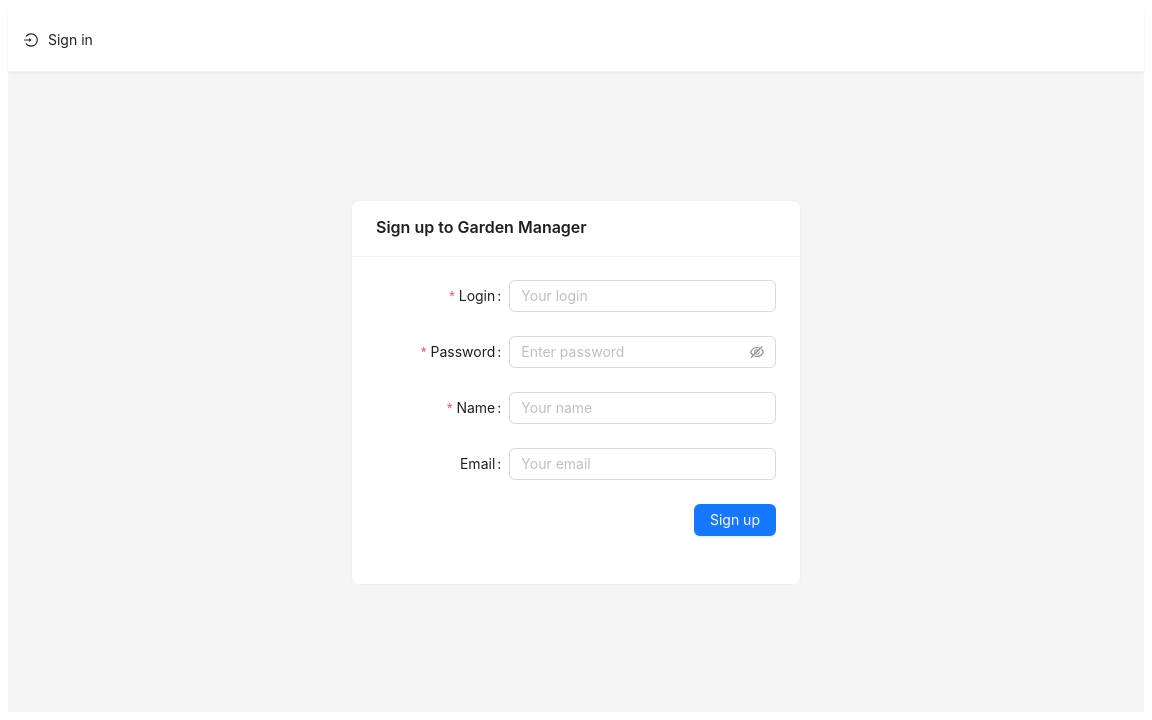
it: SignUpPage › should show notification on sign up error
Type "tester" into the field with placeholder "Your login" at (643, 296), box [509,280,776,312]
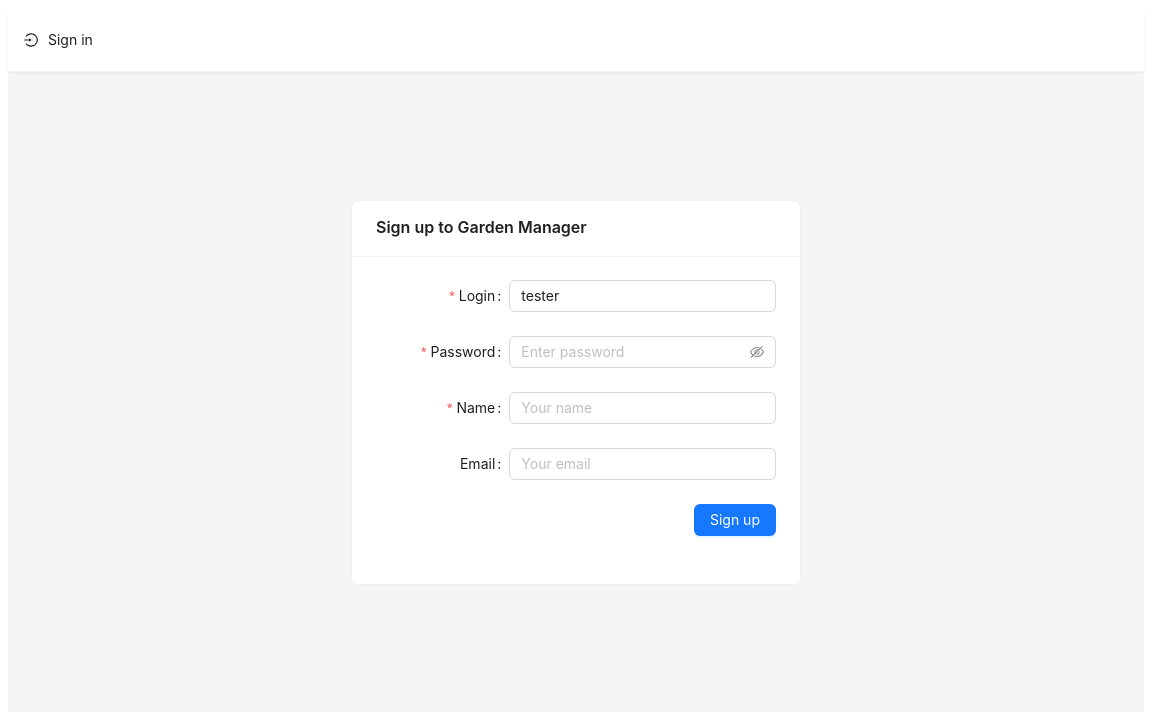
Type "abc12345" into the password field with placeholder "Enter password" at (634, 352), box [521,340,746,362]
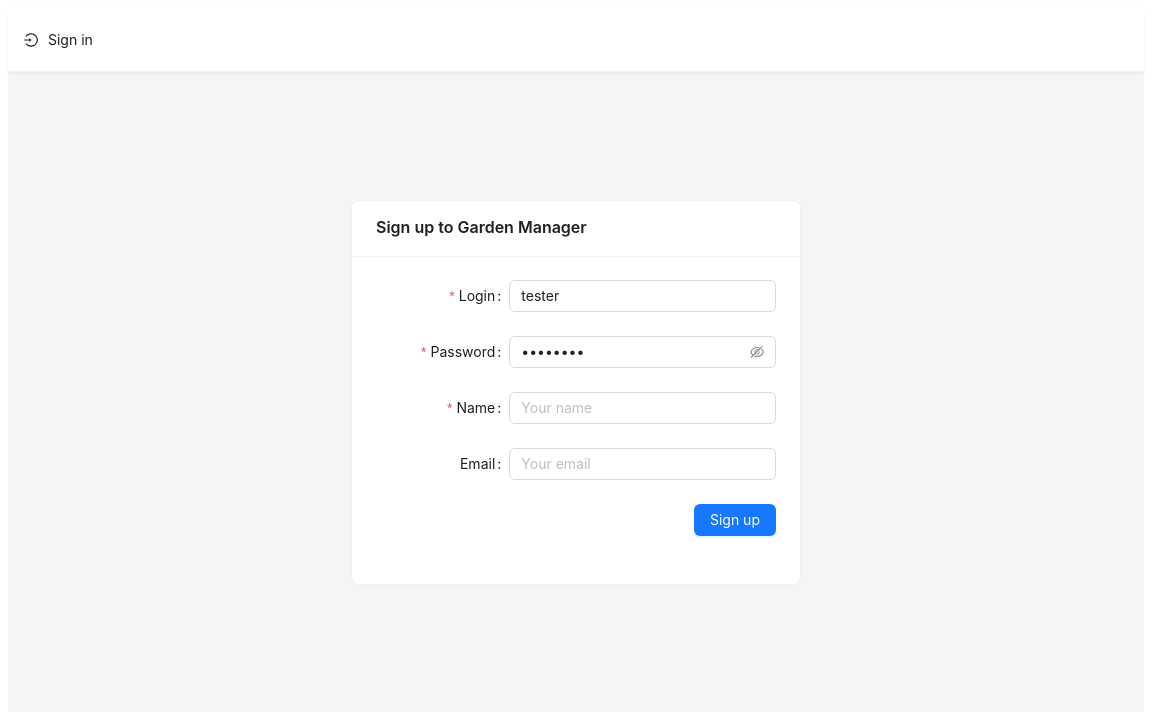
Type "Tester" into the field with placeholder "Your name" at (643, 408), box [509,392,776,424]
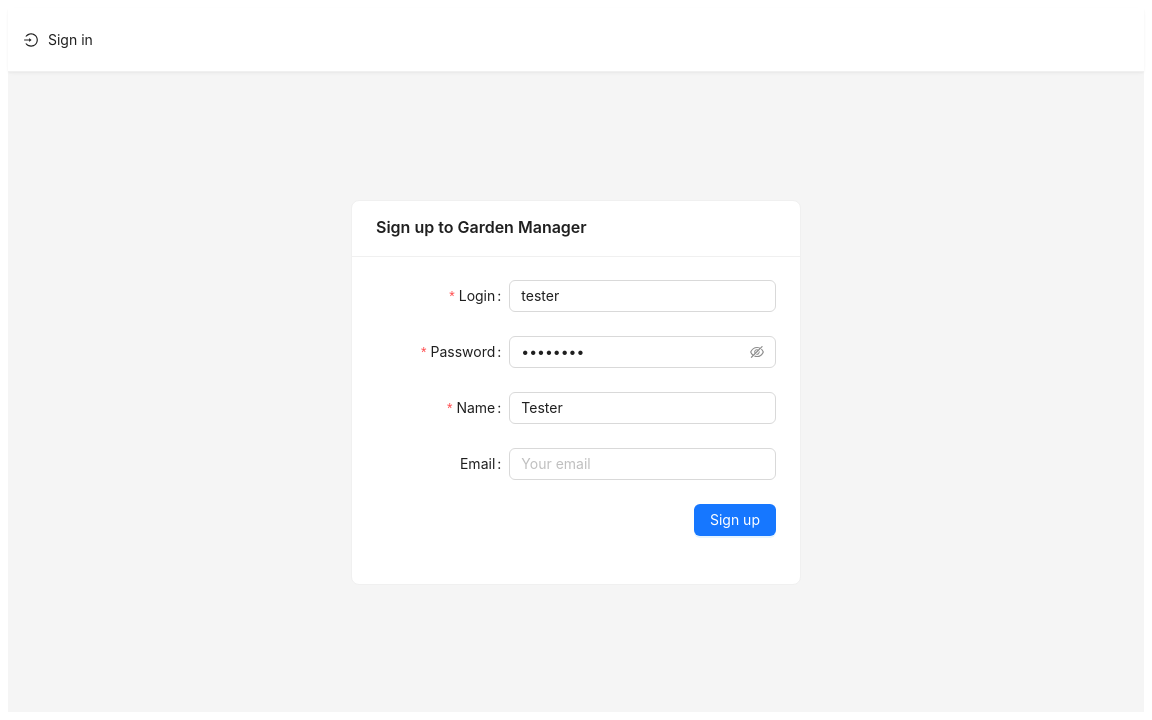
Type "test@test.com" into the field with placeholder "Your email" at (643, 464), box [509,448,776,480]
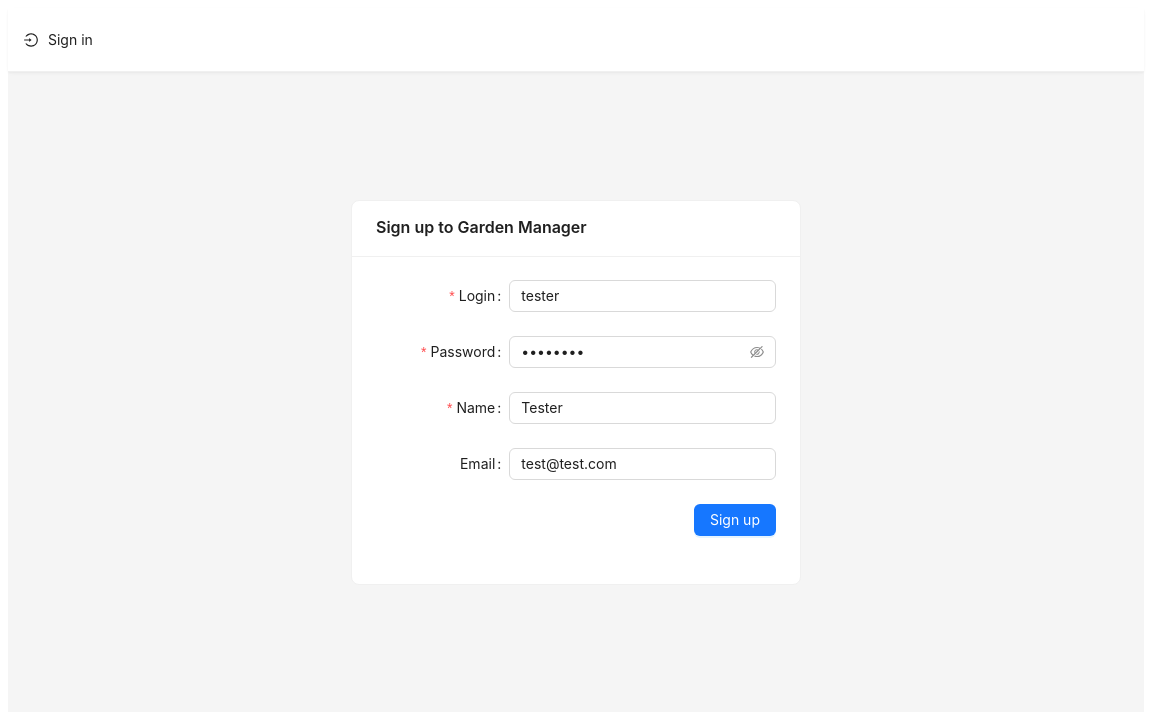
Click the button "Sign up" at (735, 520), box [694,504,776,536]
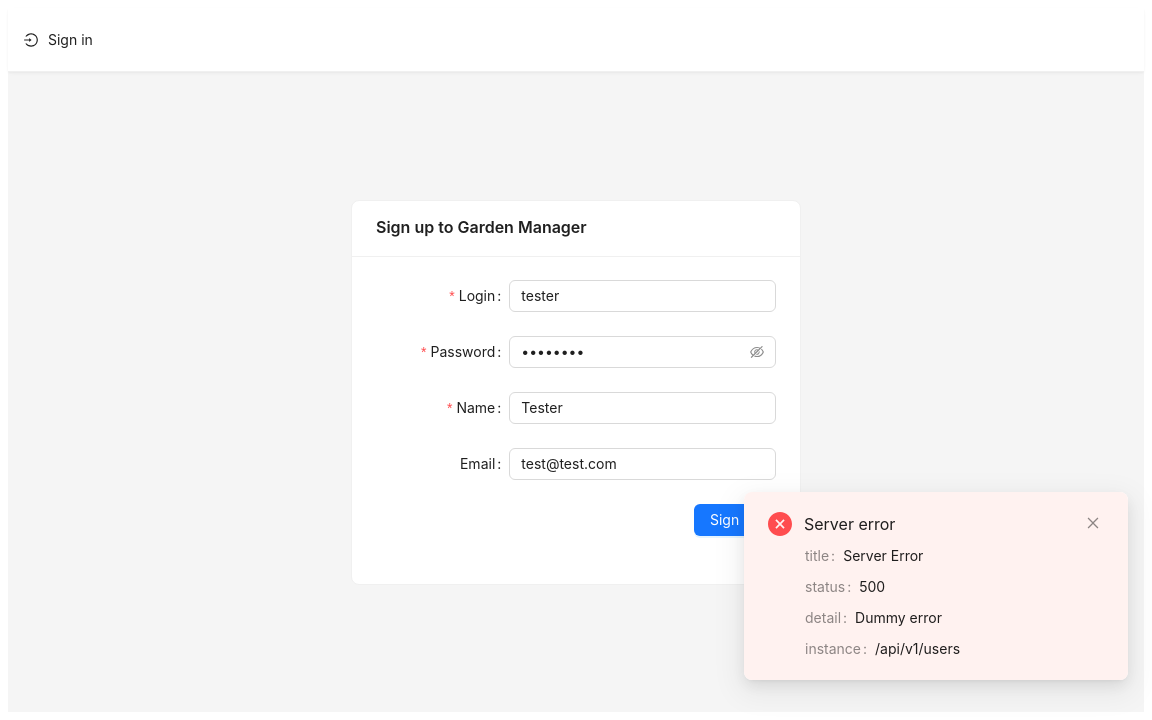
Now the text "Server error" is shown, box [804,514,895,534]
Now the text "Dummy error" is shown, box [855,609,942,626]
